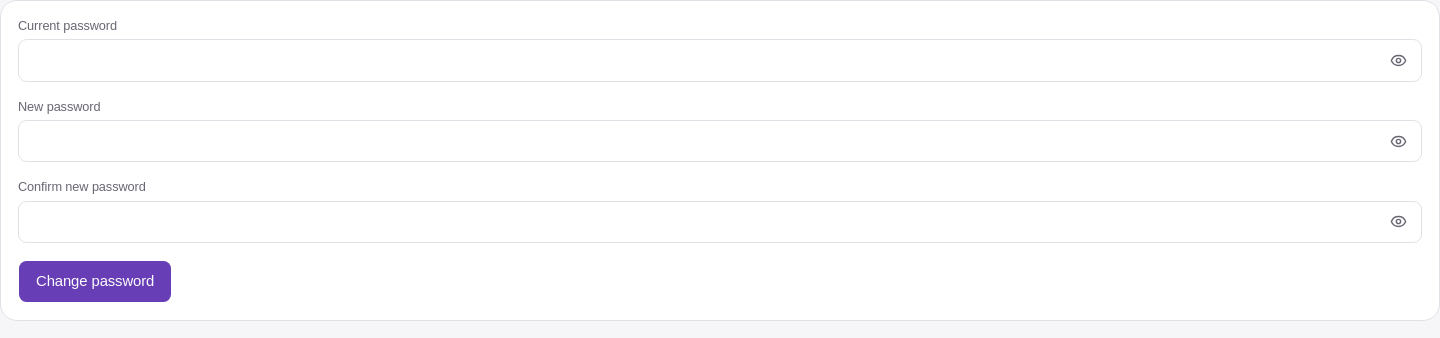
Test: ChangePasswordForm › replaces the form with a success panel once the password changes
Step 1. Type "currentpass" into the password field labelled "Current password" → (720, 60), box x1=18 y1=39 x2=1422 y2=82
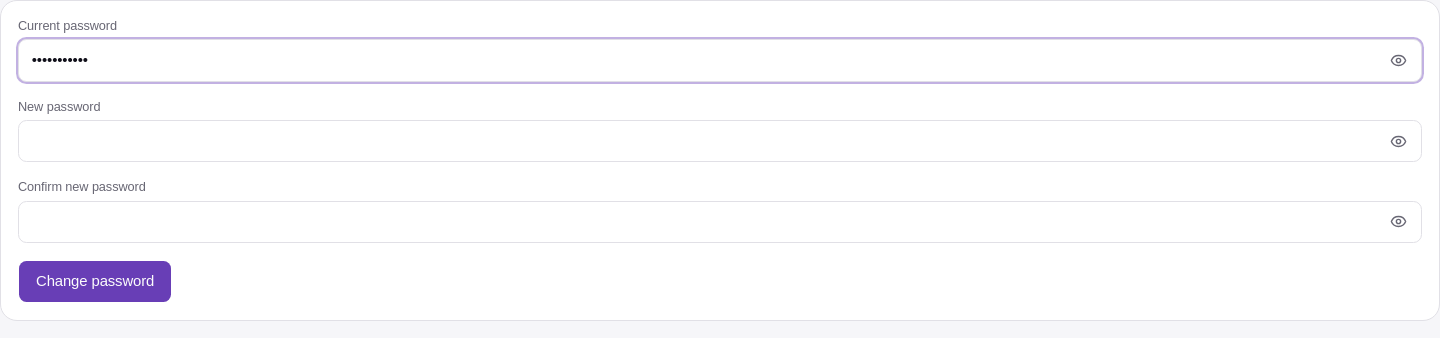
Step 2. Type "newpassword1" into the password field labelled "New password" → (720, 141), box x1=18 y1=120 x2=1422 y2=162
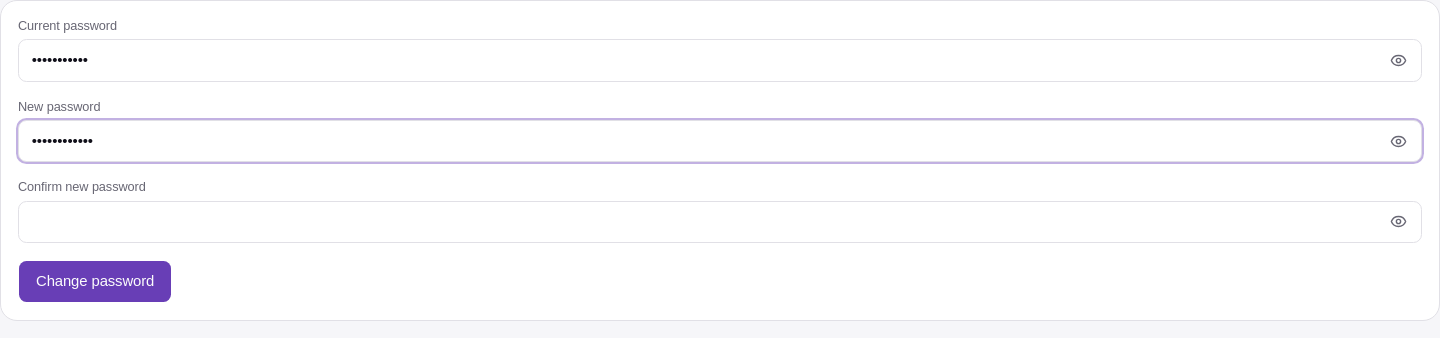
Step 3. Type "newpassword1" into the password field labelled "Confirm new password" → (720, 222), box x1=18 y1=201 x2=1422 y2=243
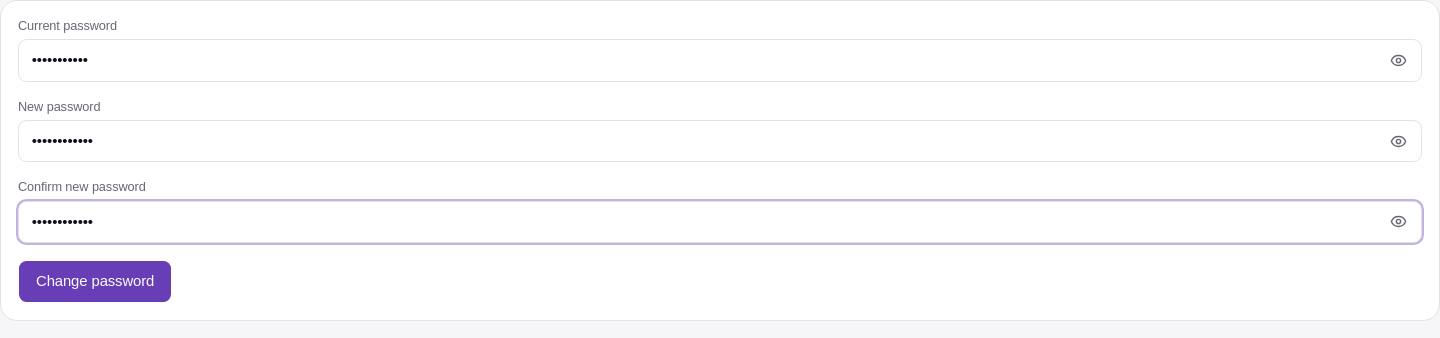
Step 4. Click the button "Change password" → (95, 281), box x1=18 y1=260 x2=172 y2=303
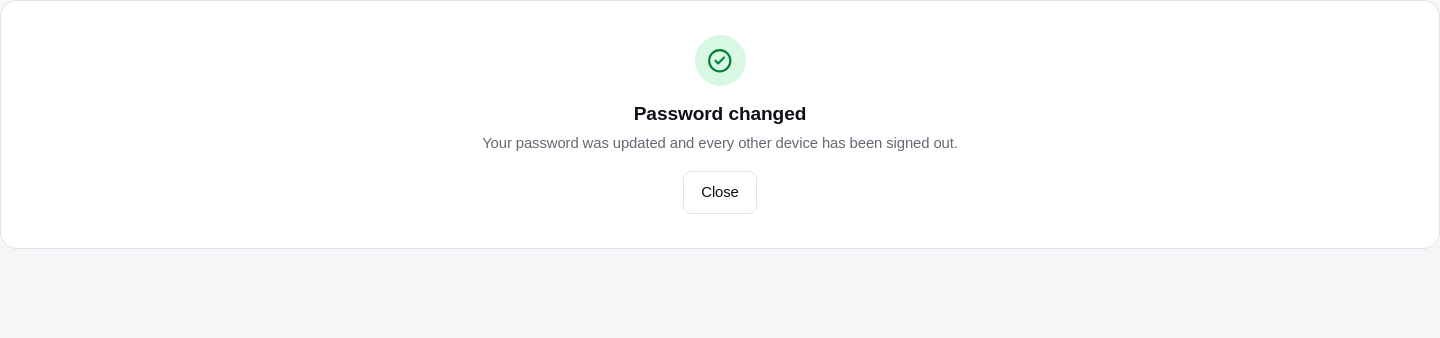
Now the text "Password changed" is shown, box x1=634 y1=103 x2=806 y2=124
Now the label labelled "Current password" is gone
